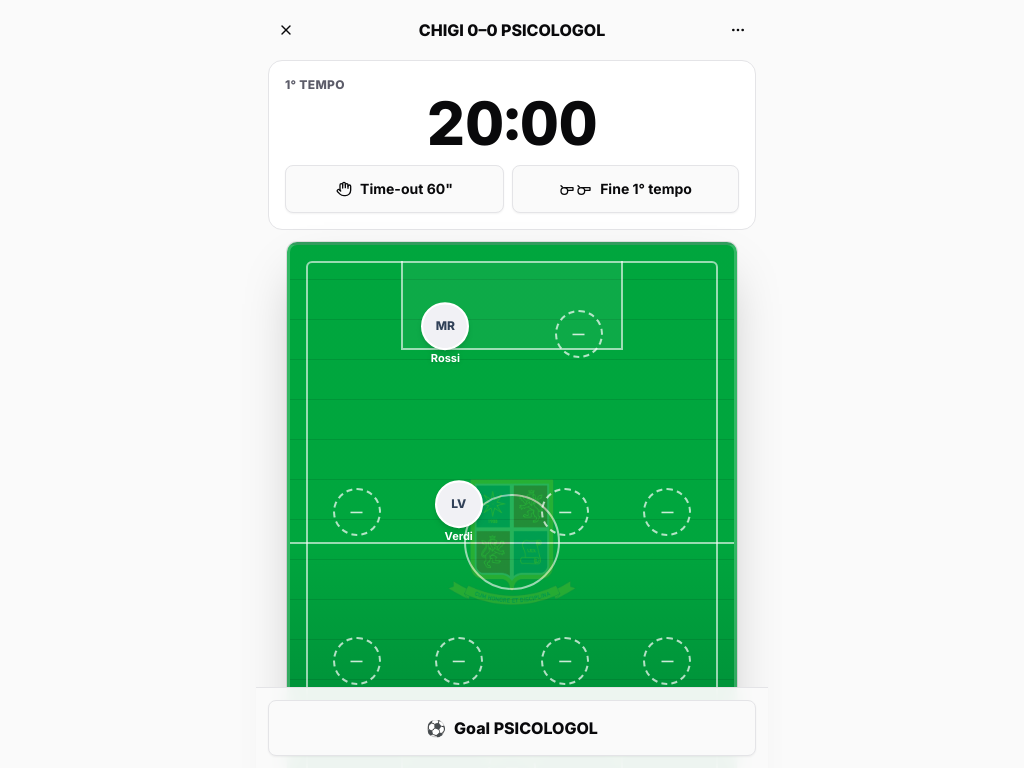
it: MatchMode › records a goal without assist from the player's avatar
Click the button with aria-label "Mario Rossi" at [445, 334], box [413,302,477,366]
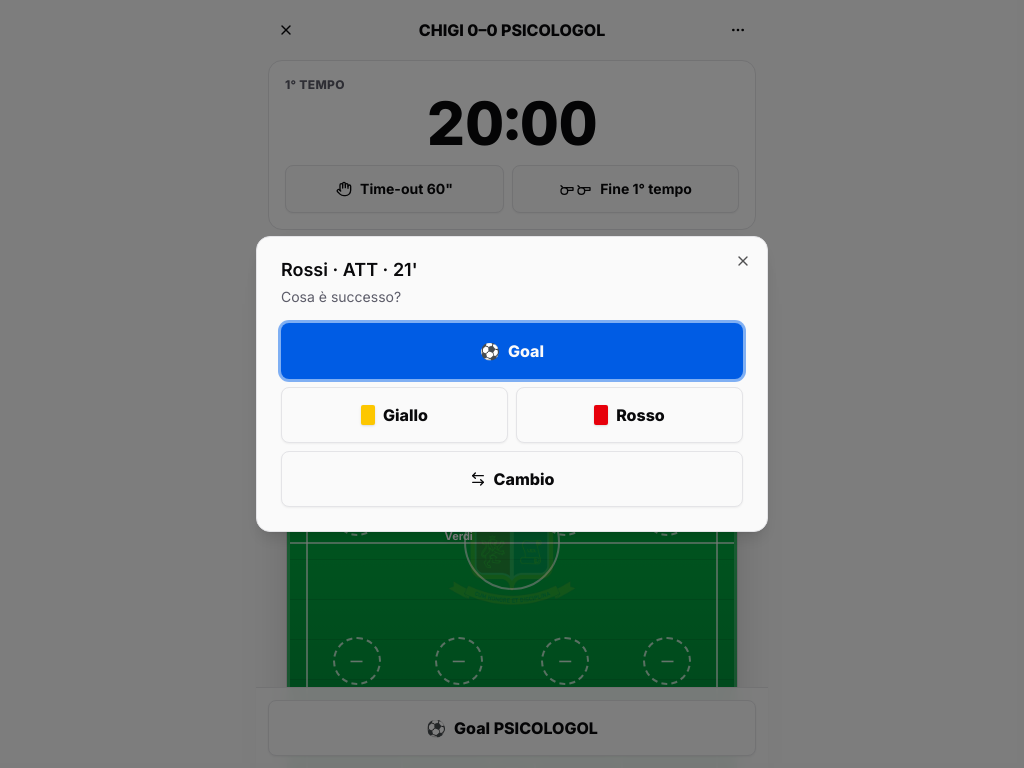
Click the button "⚽ Goal" at [512, 351], box [281,323,743,379]
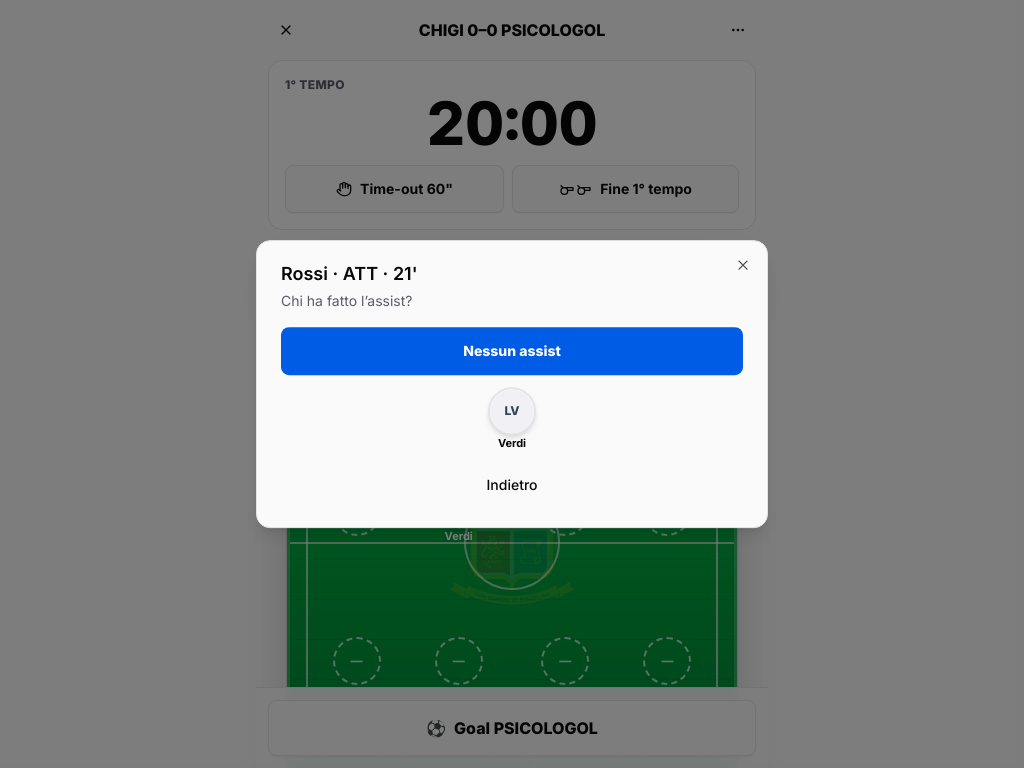
Click the button "Nessun assist" at [512, 351], box [281,327,743,375]
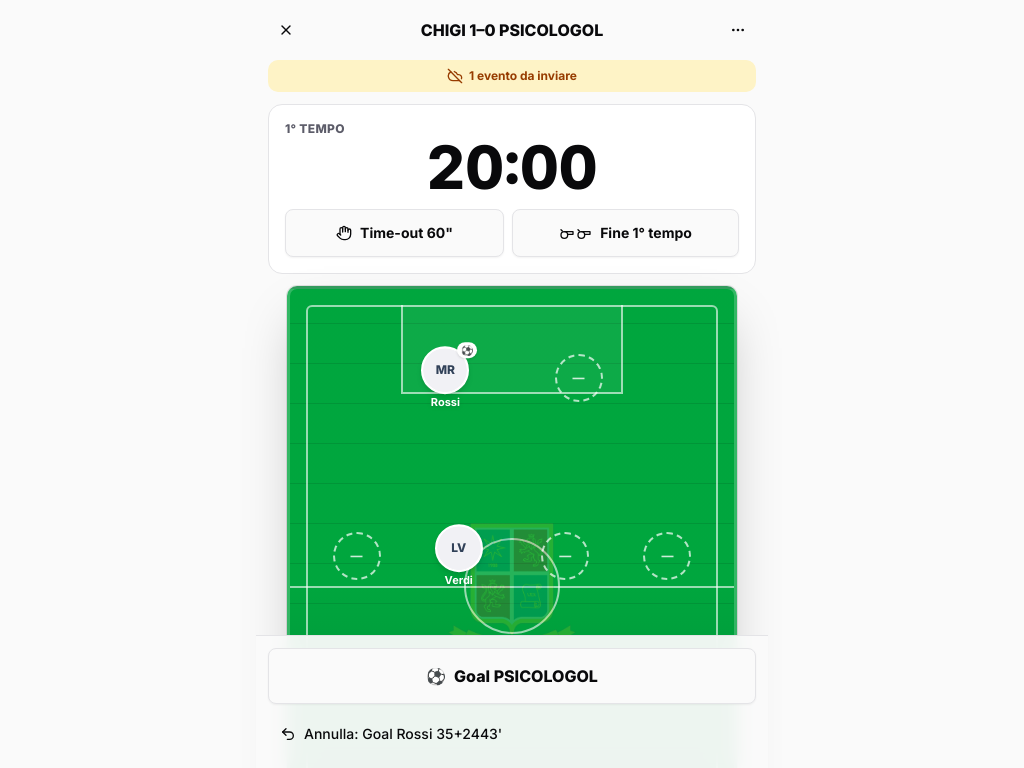
Result: the heading reads "Chigi 1–0 PSICOLOGOL" at [421,20,603,40]
Result: the message reads "1 evento da inviare" at [469,68,577,83]
